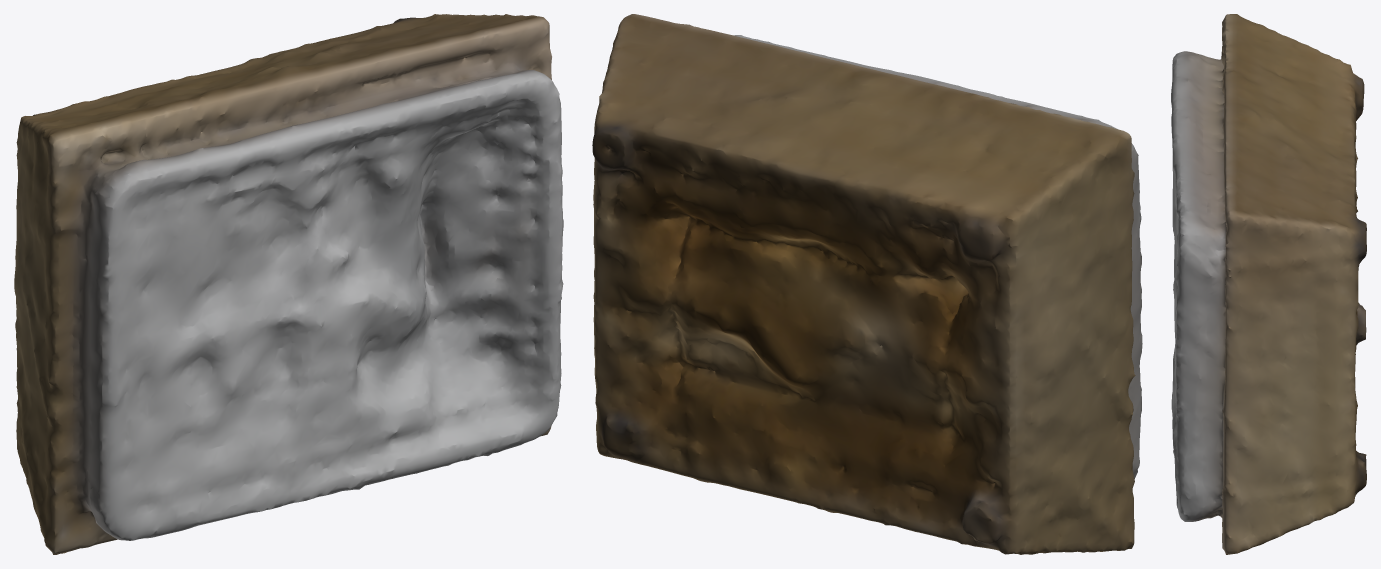
Rendered from soap.glb.
3 renders of one model, left to right at view 1: azimuth 30°, elevation 25°; view 2: azimuth 150°, elevation 25°; view 3: azimuth 270°, elevation 25°, orthographic. The views are drawn at different scales.
Bounding box in the file's own units: 0.9961 × 0.7926 × 0.4031.
